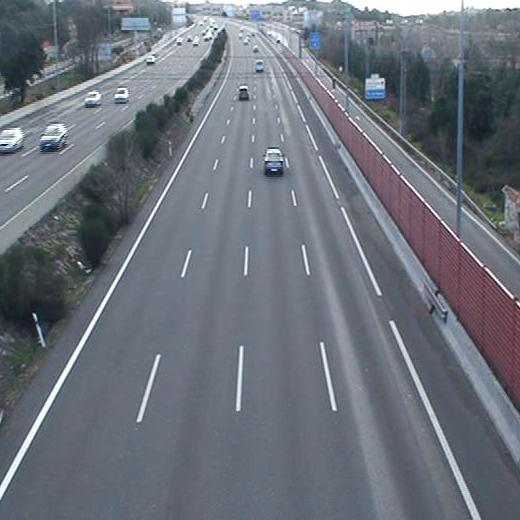car: (260, 145, 289, 177), (237, 84, 251, 102), (253, 58, 266, 74)
